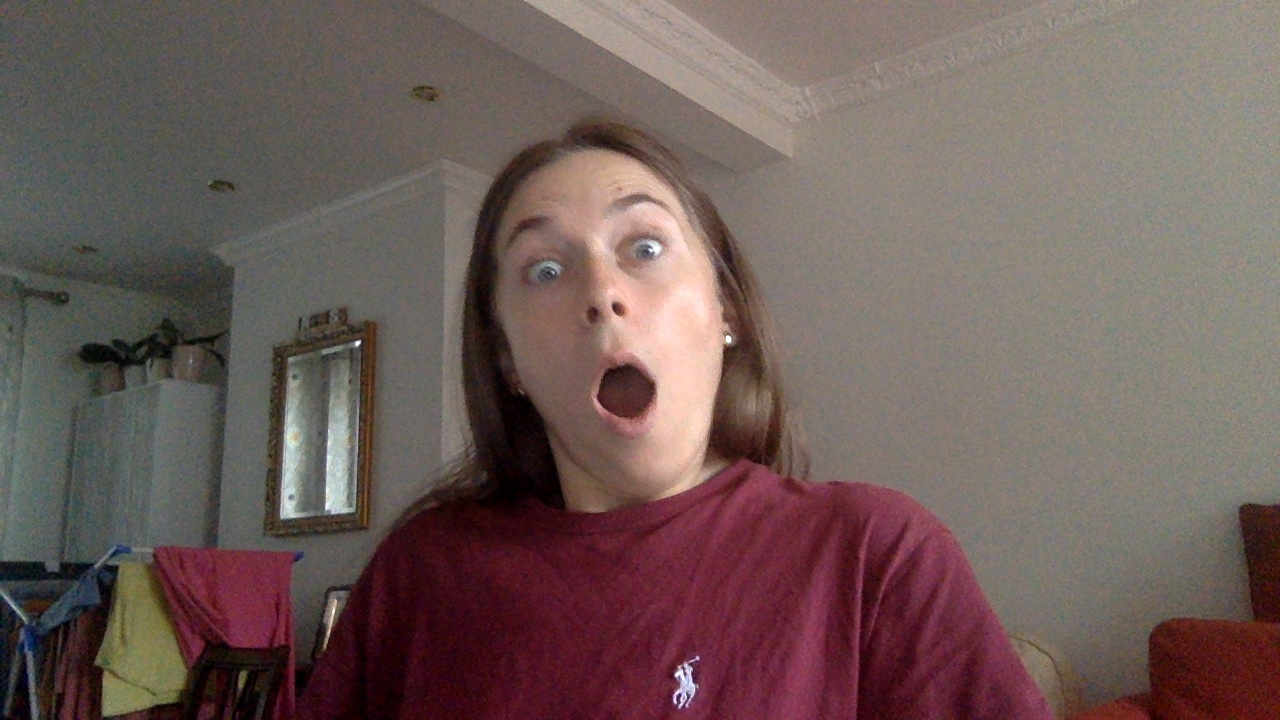surprise: (584, 353, 663, 441)
